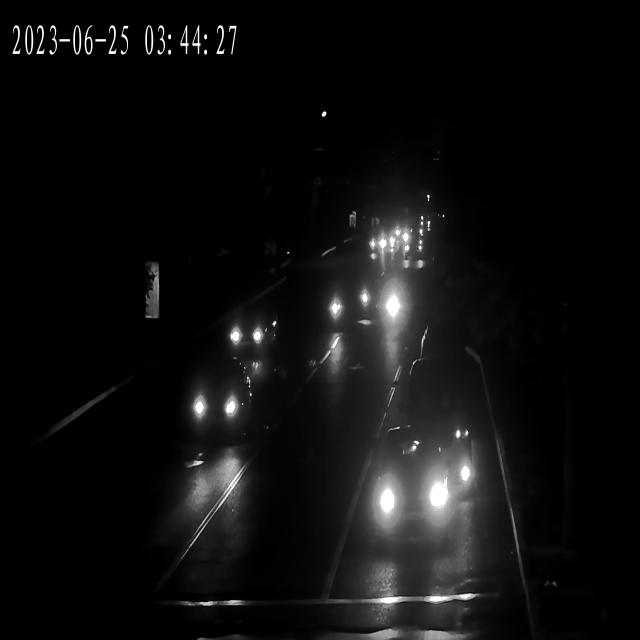Car: (357, 446, 458, 543), (402, 377, 482, 498), (182, 362, 253, 444), (356, 264, 406, 329), (297, 268, 347, 330), (224, 303, 277, 351), (394, 218, 421, 250), (365, 233, 391, 255)
